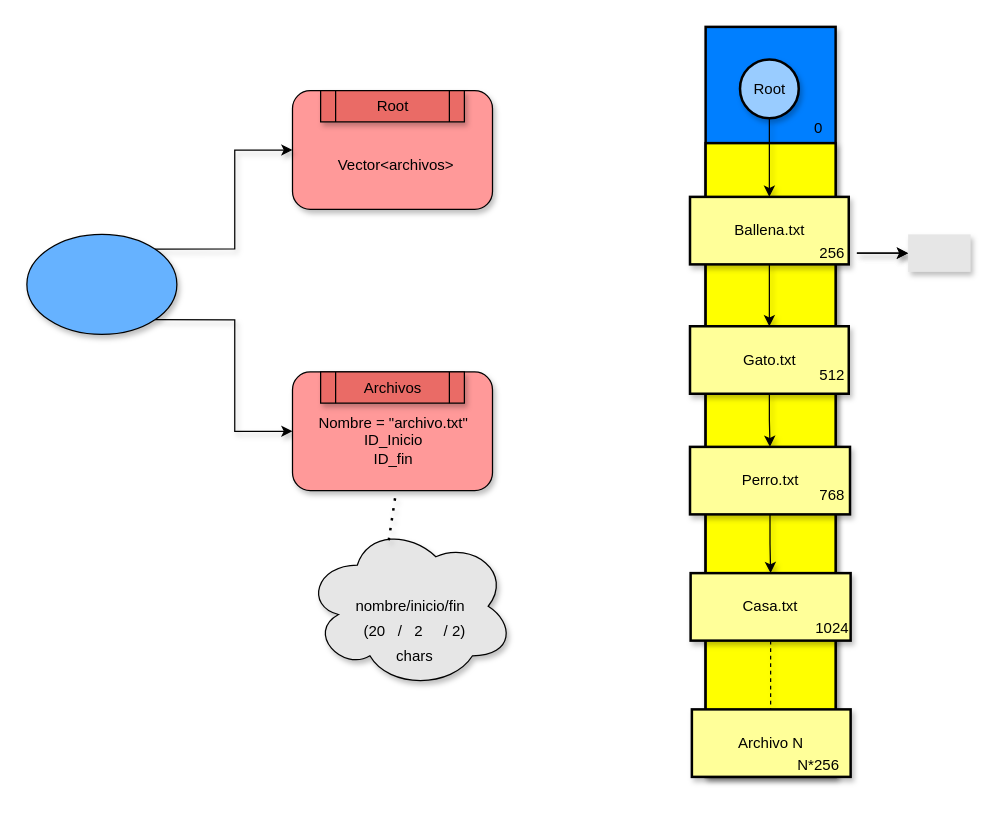
Image size: 1000x815. Some labels were removed from this diagram. Each missing label, with the centre of its shape:
"Atributos" belongs at point 102,285.
"Size" belongs at point 940,254.
